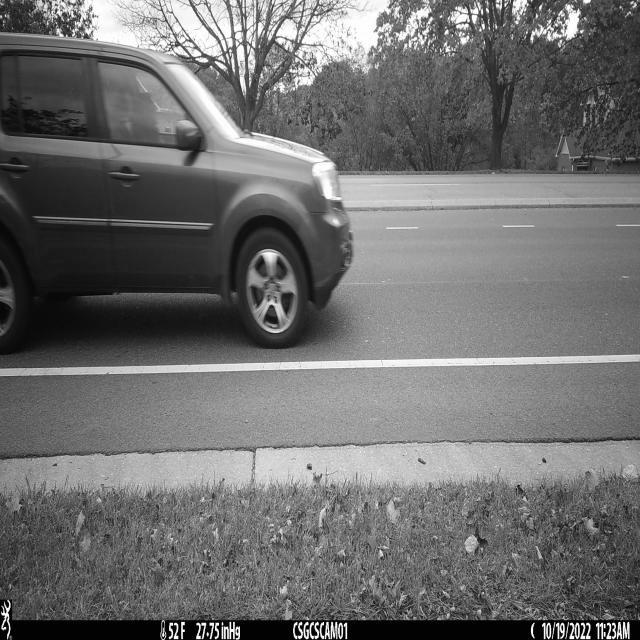SUV: (0, 33, 355, 356)
